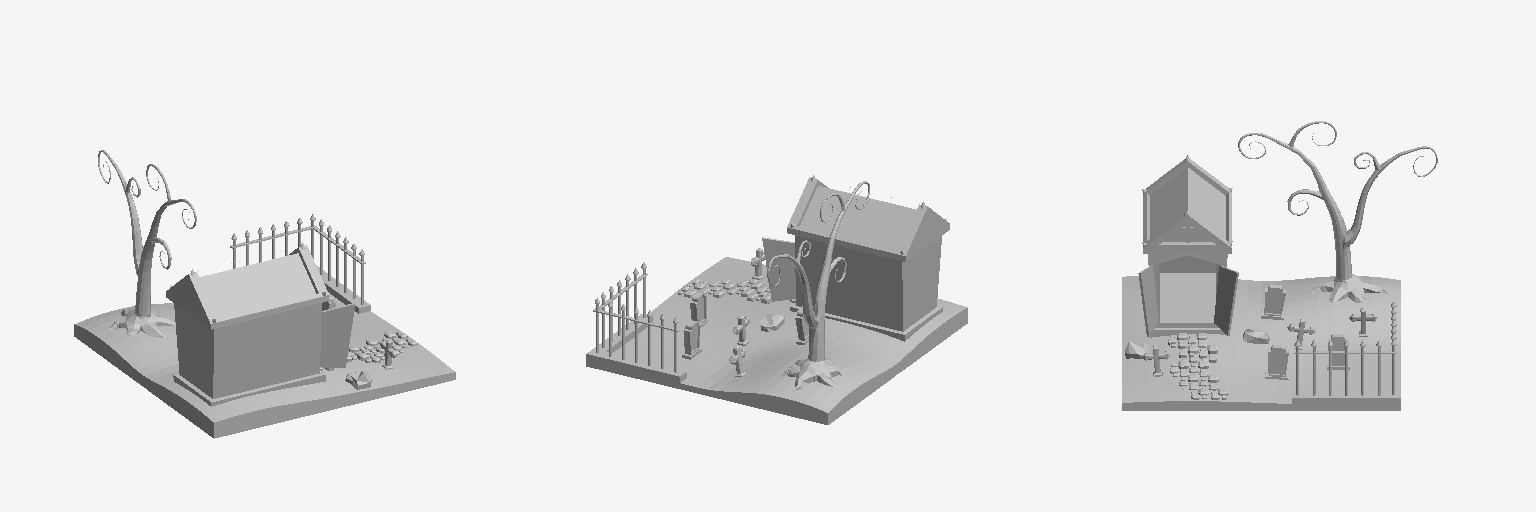
File: Spooky_Cemetary.obj
3 views of the same model, side by side, from view 1: azimuth 30°, elevation 25°; view 2: azimuth 150°, elevation 25°; view 3: azimuth 270°, elevation 25° (orthographic).
Parts seen in each view (by area): view 1: Cemetary Base Masoleum, Cemetary CemetaryGround, CemetaryTree Cemetary, Cemetary CemetaryFence, Cemetary Masoleum LeftCryptDoor; view 2: Cemetary CemetaryGround, Cemetary Base Masoleum, Cemetary CemetaryFence, CemetaryTree Cemetary, Cemetary Masoleum RightCryptDoor, Cemetary pCube9 Headstones; view 3: Cemetary CemetaryGround, Cemetary Base Masoleum, CemetaryTree Cemetary, Cemetary CemetaryFence, Cemetary Masoleum RightCryptDoor, Cemetary Masoleum LeftCryptDoor, Cemetary Headstones pCube10, Cemetary Headstones pCube11.
Boxes of the visible parts, box(x1,y1,x2,y2) form: Cemetary Base Masoleum: box(166, 245, 328, 406); Cemetary CemetaryGround: box(74, 292, 455, 438); CemetaryTree Cemetary: box(98, 150, 196, 337); Cemetary CemetaryFence: box(230, 214, 370, 313); Cemetary Masoleum LeftCryptDoor: box(320, 303, 354, 367); Cemetary CemetaryGround: box(586, 257, 967, 424); Cemetary Base Masoleum: box(787, 177, 949, 341); Cemetary CemetaryFence: box(586, 262, 686, 382); CemetaryTree Cemetary: box(767, 181, 869, 390); Cemetary Masoleum RightCryptDoor: box(762, 237, 795, 301); Cemetary pCube9 Headstones: box(682, 320, 701, 359); Cemetary CemetaryGround: box(1122, 276, 1400, 410); Cemetary Base Masoleum: box(1143, 159, 1231, 337); CemetaryTree Cemetary: box(1238, 121, 1437, 303); Cemetary CemetaryFence: box(1292, 301, 1400, 404); Cemetary Masoleum RightCryptDoor: box(1214, 266, 1238, 335); Cemetary Masoleum LeftCryptDoor: box(1138, 266, 1157, 336); Cemetary Headstones pCube10: box(1261, 284, 1285, 319); Cemetary Headstones pCube11: box(1265, 345, 1288, 379).
Size of the model in its own units: 6 by 4.54 by 6.78.